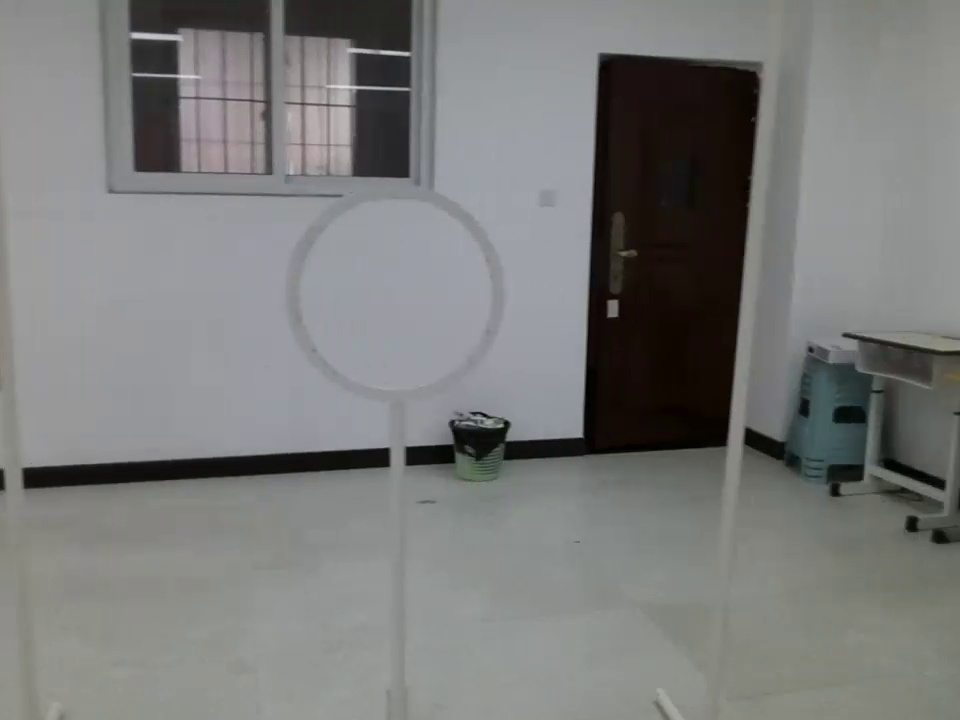gan: (710, 5, 795, 684)
quan: (275, 187, 513, 450)
